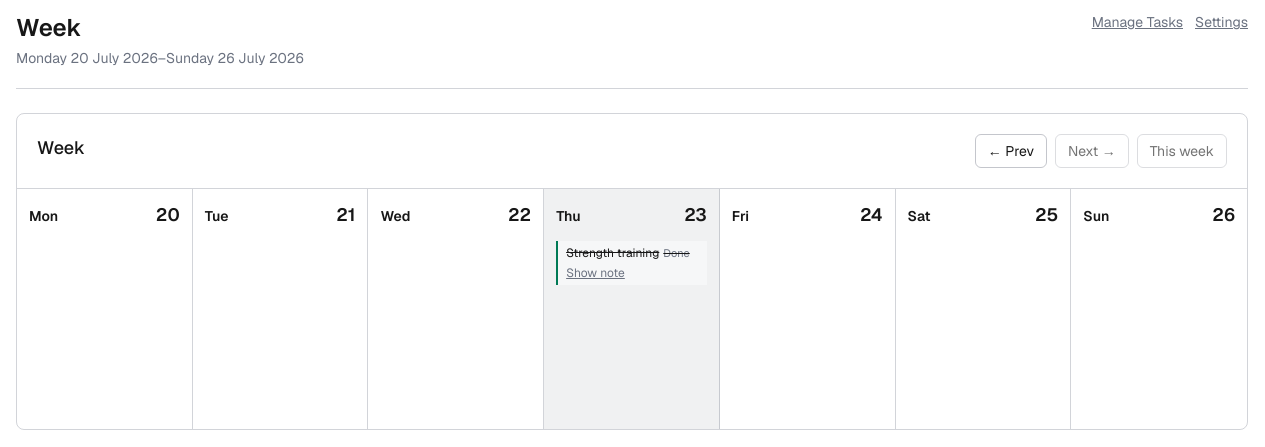
it: Week view page › expands a Completion note only when its toggle is clicked
This screenshot has width=1265, height=447.
Expected: the text "Strength training" is shown, top-left (566, 245), bottom-right (659, 261)
Expected: the text "Felt strong" is not shown
Click the button "Show note": [595, 273] box top-left (566, 265), bottom-right (625, 281)
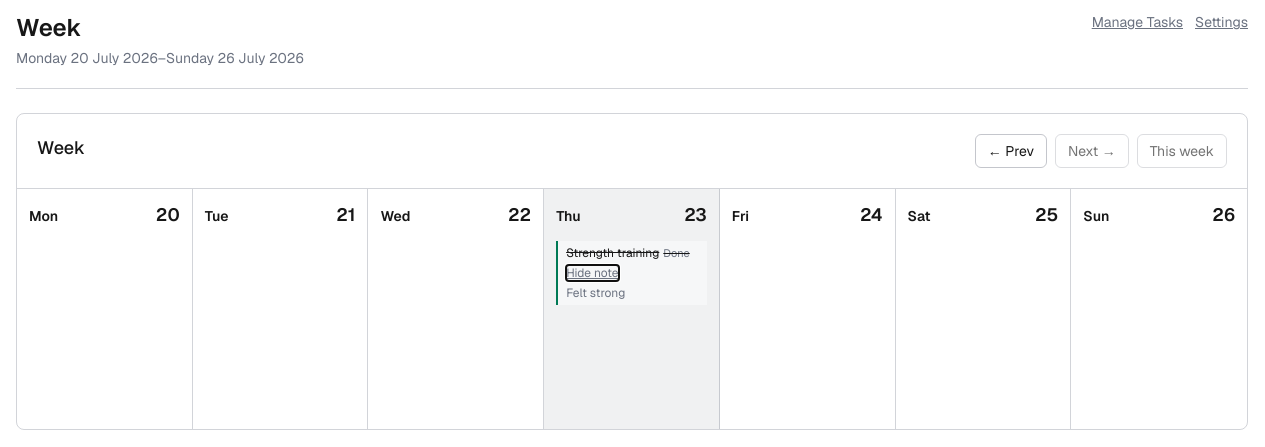
Expected: the text "Felt strong" is shown, top-left (566, 285), bottom-right (625, 301)
